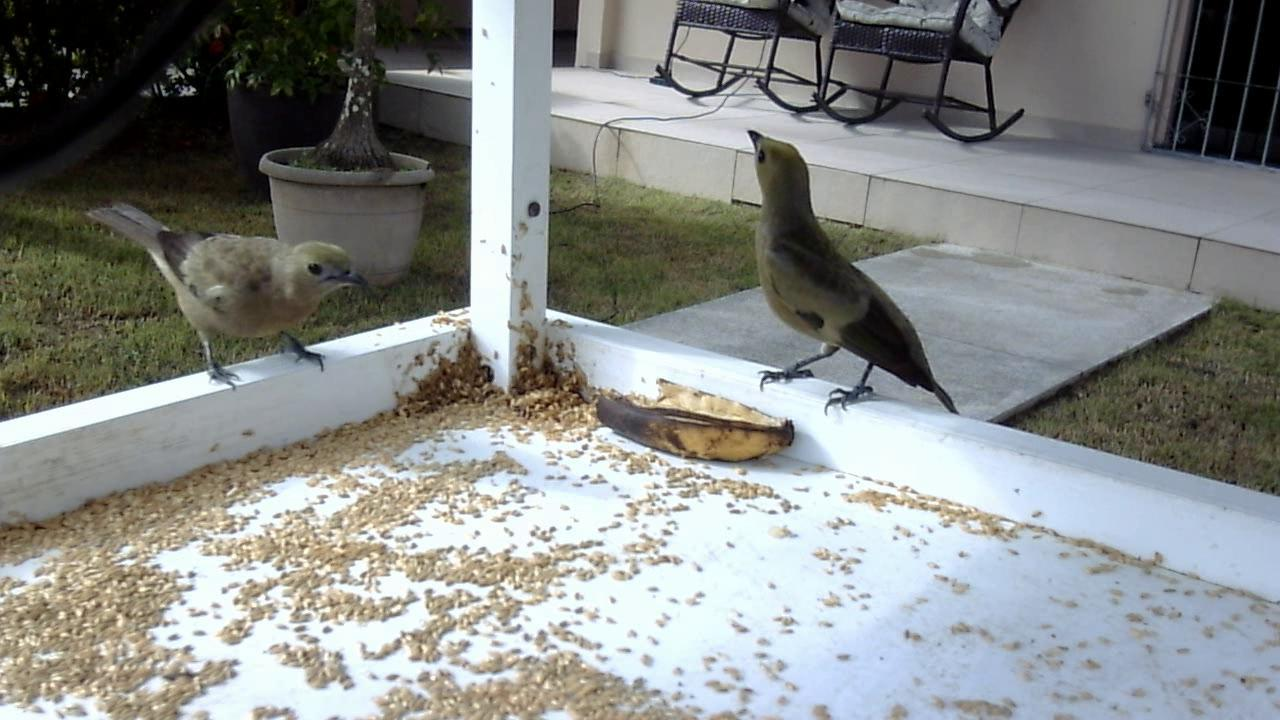sanhaco_do_coqueiro: (726, 126, 963, 423), (85, 184, 383, 404)
